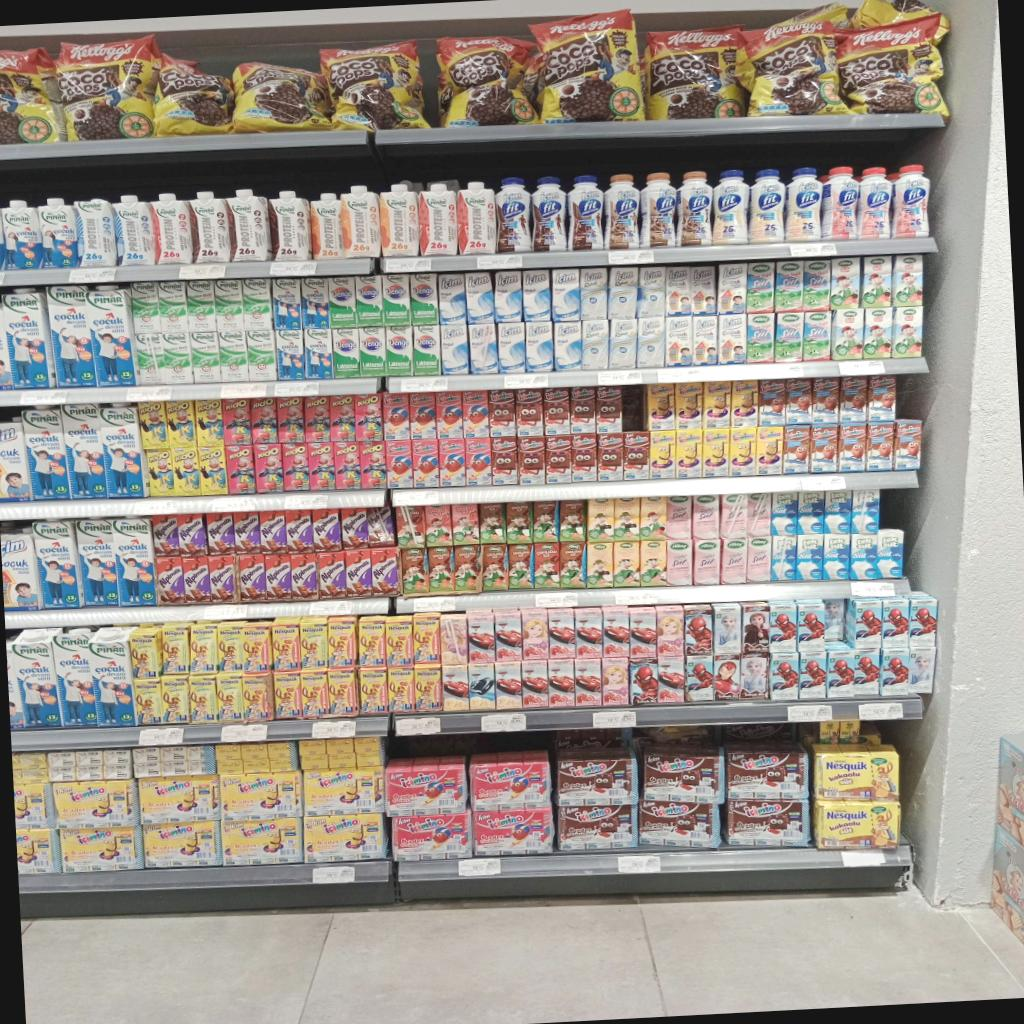price_tag: (308, 600, 362, 616), (138, 727, 183, 746), (481, 713, 526, 732), (659, 367, 715, 382), (457, 858, 501, 877), (859, 701, 903, 720), (840, 849, 886, 867), (222, 724, 268, 742), (395, 717, 440, 735), (592, 710, 637, 728), (197, 604, 247, 620), (312, 721, 356, 739), (126, 386, 172, 403), (618, 855, 661, 873), (312, 866, 355, 884), (787, 705, 832, 722), (801, 475, 846, 492), (270, 261, 317, 277), (179, 264, 226, 280), (69, 268, 116, 284), (210, 496, 257, 512), (839, 360, 885, 376), (598, 370, 644, 386), (19, 390, 68, 405), (851, 581, 896, 597), (284, 494, 329, 510), (135, 499, 180, 515), (790, 243, 837, 258), (220, 383, 267, 398), (401, 377, 448, 392), (503, 374, 549, 389), (384, 258, 430, 273), (413, 596, 456, 612), (615, 590, 658, 606), (396, 490, 439, 506), (609, 250, 654, 265), (275, 381, 319, 396), (536, 592, 577, 608), (477, 255, 522, 269), (783, 365, 804, 377), (0, 271, 4, 286)
product: (6, 629, 66, 727), (2, 290, 56, 388), (46, 286, 95, 387), (86, 286, 135, 387), (813, 744, 899, 801), (555, 748, 637, 806), (89, 629, 137, 727), (385, 759, 466, 817), (643, 746, 725, 803), (469, 753, 550, 810), (725, 744, 808, 799), (98, 406, 147, 498), (52, 628, 98, 725), (23, 408, 71, 499), (303, 813, 386, 864), (52, 779, 138, 828), (472, 804, 553, 856), (34, 523, 83, 608), (62, 405, 107, 497), (814, 801, 900, 849), (220, 770, 302, 820), (724, 799, 809, 847), (304, 765, 383, 816), (138, 775, 220, 823), (60, 826, 143, 873), (638, 800, 719, 848), (222, 817, 303, 865), (112, 518, 156, 606), (392, 811, 471, 860), (558, 804, 637, 852), (142, 821, 221, 868), (77, 521, 117, 604), (2, 196, 46, 270), (226, 189, 270, 262), (1, 535, 43, 610), (152, 193, 195, 264), (191, 192, 233, 263), (114, 195, 156, 265), (269, 191, 311, 261), (340, 186, 381, 257), (39, 198, 80, 268), (380, 184, 419, 257), (457, 183, 496, 255), (76, 199, 116, 268), (420, 184, 457, 257), (785, 169, 822, 242), (822, 167, 859, 240), (640, 173, 676, 247), (604, 174, 639, 250), (0, 422, 33, 502), (496, 178, 531, 253), (568, 175, 603, 250), (677, 171, 711, 247), (713, 171, 748, 244), (894, 165, 929, 238), (532, 177, 566, 252), (750, 170, 784, 244), (857, 168, 892, 239), (310, 193, 344, 259), (13, 781, 56, 830), (16, 828, 61, 874), (846, 598, 883, 650), (181, 280, 218, 331), (880, 649, 921, 695), (860, 255, 893, 309), (270, 617, 302, 671), (827, 649, 861, 699), (157, 280, 189, 333), (160, 333, 193, 384), (831, 309, 864, 360), (318, 551, 353, 599), (607, 267, 639, 319), (464, 271, 495, 324), (130, 625, 161, 678), (189, 332, 221, 383), (246, 329, 277, 381), (892, 255, 923, 307), (241, 622, 272, 674), (240, 279, 272, 329), (871, 529, 903, 579), (797, 600, 825, 657), (655, 605, 685, 658), (214, 280, 245, 331), (218, 331, 249, 382), (271, 279, 302, 330), (578, 320, 609, 371), (892, 307, 923, 358), (725, 427, 757, 476), (130, 282, 160, 334), (134, 333, 164, 385), (304, 328, 334, 380), (410, 273, 440, 325), (636, 267, 666, 319), (830, 257, 860, 309), (327, 616, 357, 668), (468, 323, 499, 373), (217, 621, 248, 671), (276, 330, 306, 381), (494, 271, 524, 322), (717, 264, 747, 315), (863, 308, 893, 359), (719, 494, 753, 539), (602, 606, 630, 660), (714, 603, 742, 657), (301, 277, 330, 329), (497, 322, 526, 374), (551, 269, 580, 321), (438, 273, 467, 325), (383, 274, 412, 326), (882, 596, 911, 648), (440, 613, 469, 665), (137, 402, 169, 449), (411, 326, 441, 376), (198, 445, 228, 495), (516, 389, 547, 437), (327, 667, 358, 715), (909, 594, 937, 647), (413, 613, 441, 666), (629, 606, 657, 659), (331, 328, 360, 379), (440, 324, 469, 375), (525, 321, 554, 372), (522, 270, 551, 321), (894, 420, 923, 471), (254, 443, 283, 494), (684, 604, 713, 655), (226, 445, 256, 494), (606, 320, 637, 367), (134, 678, 165, 725), (242, 673, 273, 720), (581, 268, 609, 320), (774, 260, 802, 312), (300, 617, 328, 669), (467, 611, 495, 663), (547, 608, 575, 660), (574, 607, 602, 659), (355, 276, 384, 326), (718, 314, 747, 364), (746, 263, 775, 313), (769, 653, 799, 701), (742, 602, 769, 655), (358, 326, 386, 377), (328, 277, 356, 328), (190, 622, 218, 673), (386, 616, 414, 667), (494, 609, 522, 660), (637, 318, 666, 367), (687, 266, 716, 315), (783, 425, 812, 474), (754, 426, 783, 475), (702, 429, 731, 478), (166, 400, 196, 447), (272, 672, 302, 719), (358, 667, 388, 714), (802, 260, 829, 312), (770, 602, 797, 654), (385, 326, 413, 376), (308, 442, 336, 492), (358, 617, 386, 667), (172, 448, 201, 496), (594, 386, 623, 434), (702, 381, 731, 429), (453, 545, 482, 593), (850, 533, 879, 581), (161, 675, 190, 723), (301, 669, 330, 717), (775, 312, 802, 363), (162, 623, 189, 674), (521, 609, 548, 660), (553, 322, 581, 371), (371, 547, 399, 596), (189, 674, 217, 723), (646, 384, 675, 431), (673, 383, 702, 430), (759, 379, 788, 426), (411, 441, 440, 488), (157, 558, 186, 605), (400, 549, 429, 596), (691, 316, 718, 366), (803, 311, 830, 361), (866, 422, 893, 472), (208, 556, 238, 601), (746, 314, 774, 362), (354, 394, 382, 442), (570, 387, 598, 435), (623, 431, 651, 479), (385, 441, 413, 489), (282, 443, 310, 491), (468, 663, 496, 711), (222, 398, 251, 444), (278, 396, 307, 442), (330, 395, 359, 441), (665, 317, 692, 366), (359, 441, 386, 490), (333, 441, 360, 490), (216, 672, 243, 721), (495, 661, 522, 710), (147, 450, 175, 497), (840, 376, 868, 423), (491, 438, 519, 485), (439, 440, 467, 487), (612, 541, 640, 588), (771, 535, 799, 582), (785, 379, 814, 424), (414, 666, 443, 711), (382, 393, 409, 441), (462, 391, 489, 439), (839, 423, 866, 471), (812, 425, 839, 473), (676, 429, 703, 477), (548, 660, 575, 708), (575, 659, 602, 707), (824, 491, 854, 534), (489, 391, 517, 437), (731, 381, 759, 427), (265, 554, 293, 600), (184, 557, 212, 603), (426, 547, 454, 593), (720, 538, 748, 584), (388, 667, 416, 713), (657, 657, 685, 703), (238, 555, 267, 599), (691, 496, 720, 540), (769, 492, 798, 536), (666, 267, 692, 316), (482, 544, 509, 591), (693, 538, 720, 585), (442, 664, 469, 711), (686, 657, 714, 702), (409, 393, 435, 441), (436, 392, 462, 440), (650, 431, 676, 479), (797, 492, 826, 535), (195, 400, 222, 446), (813, 378, 840, 424), (869, 376, 896, 422), (519, 438, 546, 484), (465, 440, 492, 486), (345, 550, 372, 596), (586, 542, 613, 588), (797, 534, 824, 580), (522, 661, 549, 707), (177, 514, 207, 555), (544, 389, 570, 436), (560, 542, 586, 589), (640, 541, 666, 588), (232, 512, 261, 554), (747, 493, 776, 535), (639, 497, 667, 540), (630, 662, 658, 705), (746, 535, 771, 583), (508, 544, 534, 590), (824, 534, 850, 580), (853, 650, 879, 696), (206, 513, 235, 554), (313, 509, 342, 550), (396, 506, 425, 547), (291, 555, 318, 599), (602, 661, 629, 705), (558, 500, 586, 542), (598, 434, 623, 481), (546, 436, 571, 483), (560, 542, 585, 589), (534, 542, 559, 589), (251, 397, 277, 442), (304, 396, 330, 441), (852, 490, 879, 533), (451, 504, 480, 544), (572, 435, 597, 481), (667, 540, 692, 586), (286, 511, 314, 552), (341, 508, 369, 549), (424, 505, 452, 546), (800, 654, 827, 696), (587, 499, 613, 542), (260, 511, 287, 552), (506, 502, 533, 543), (613, 498, 640, 539), (741, 656, 768, 697), (714, 658, 741, 699), (532, 501, 559, 541), (911, 647, 935, 692), (666, 496, 691, 539), (480, 503, 506, 543), (153, 516, 179, 555), (368, 507, 394, 546), (0, 311, 12, 389), (652, 330, 652, 334), (576, 404, 576, 406)
